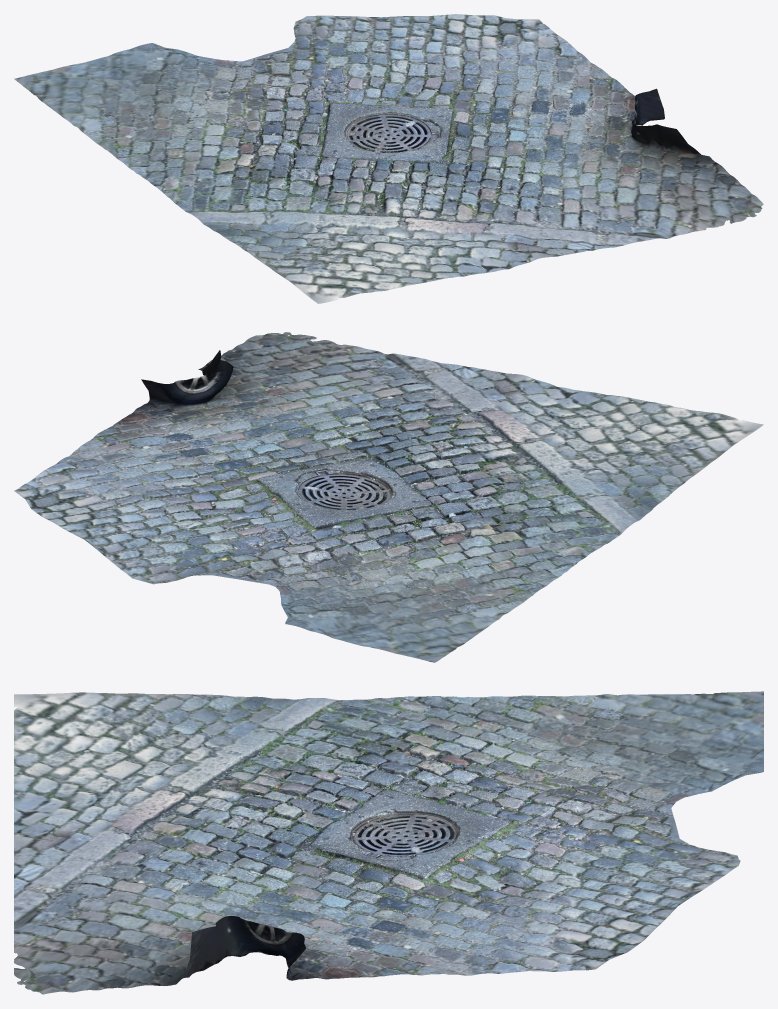
The model's file is alcantarilla1.glb.
3 views of the same model, one above another, from view 1: azimuth 30°, elevation 25°; view 2: azimuth 150°, elevation 25°; view 3: azimuth 270°, elevation 25° (orthographic). The views are drawn at different scales.
Parts seen in each view (by area): view 1: Object; view 2: Object; view 3: Object.
Part boxes in pixels (x1=…): Object: x1=14, y1=14, x2=763, y2=303; Object: x1=14, y1=332, x2=763, y2=662; Object: x1=14, y1=691, x2=763, y2=994.
Bounding box in the file's own units: 2.3 × 0.181 × 2.65.
Materials: 1 (1 with a texture image).
